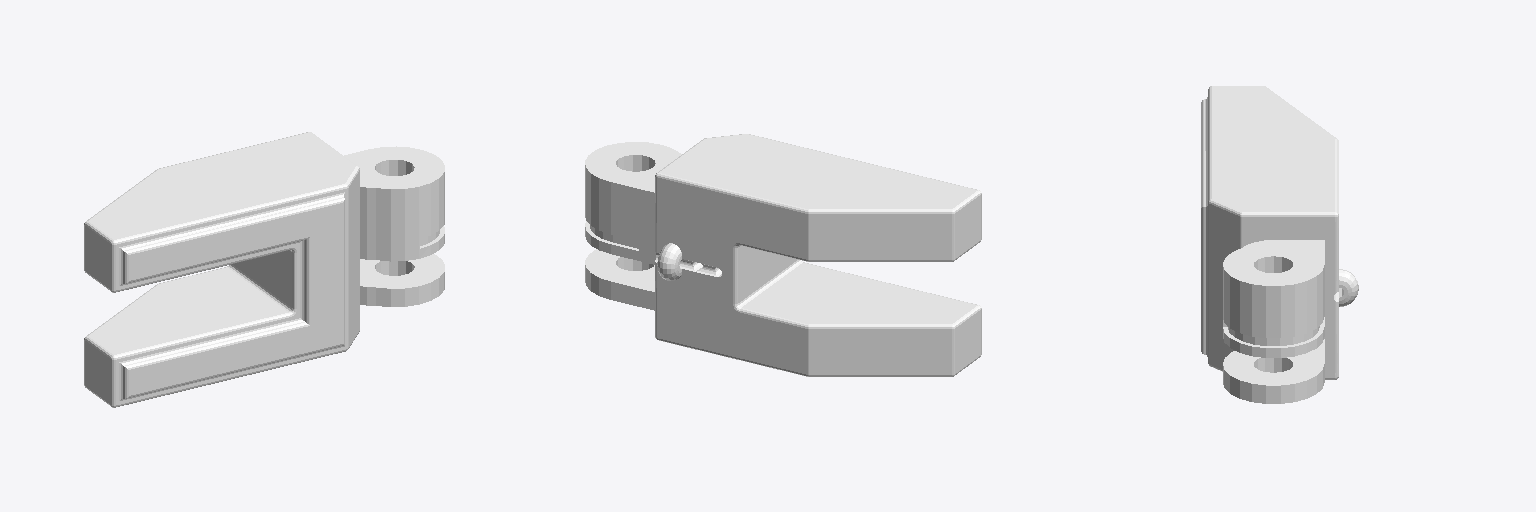
File: gripper_right_distal_link.obj
3 renders of one model, left to right at view 1: azimuth 30°, elevation 25°; view 2: azimuth 150°, elevation 25°; view 3: azimuth 270°, elevation 25°, orthographic.
Visible parts, largest first — view 1: shape0.007; view 2: shape0.007; view 3: shape0.007.
Part boxes in pixels (x1,y1,x2,y2): shape0.007: (84, 132, 444, 407); shape0.007: (585, 134, 981, 376); shape0.007: (1201, 86, 1358, 403).
Bounding box in the file's own units: 0.0569 × 0.0254 × 0.0217.